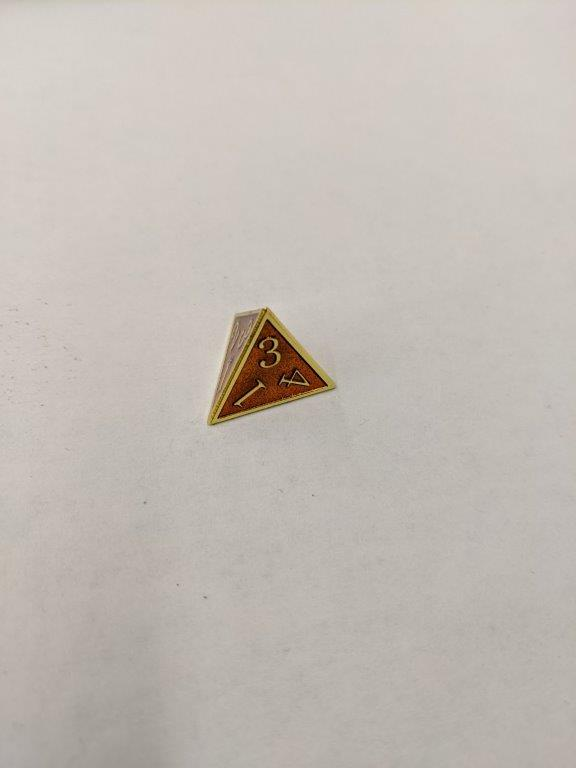d4-3: (195, 300, 344, 432)
